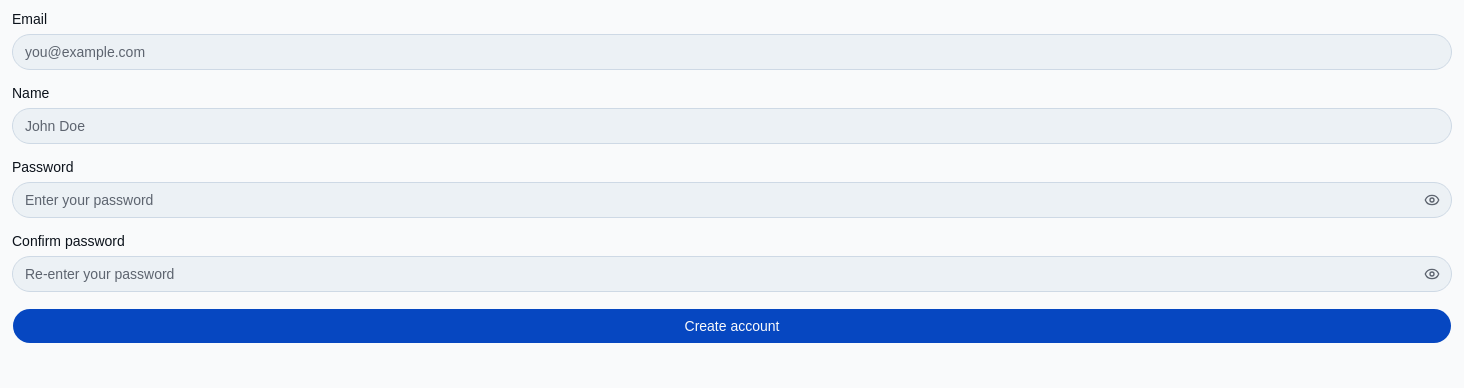
Scenario: RegisterForm › shows validation error when passwords do not match
The image size is (1464, 388).
Type "user@example.com" into the field labelled "Email" at (732, 52), box [12,34,1452,70]
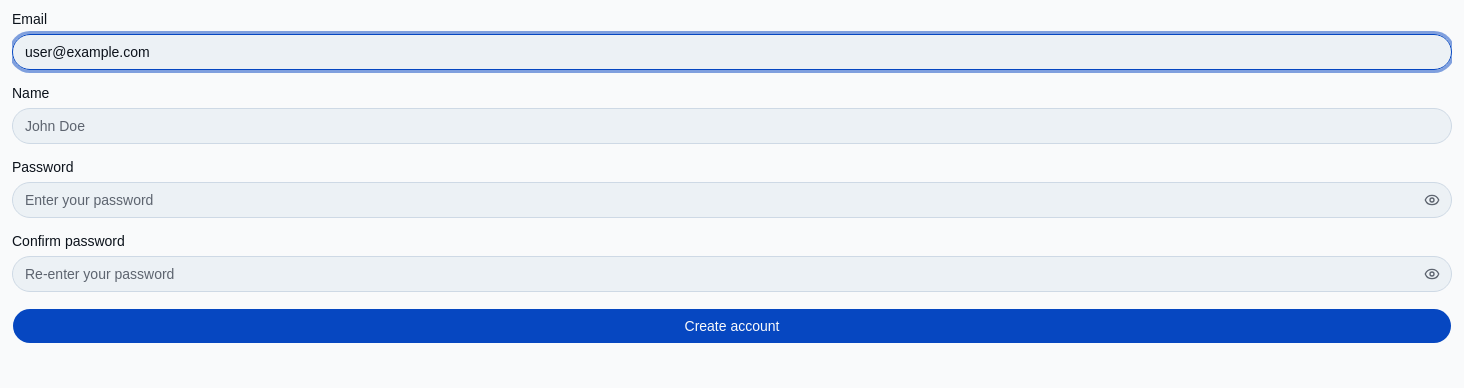
Type "Test User" into the field labelled "Name" at (732, 126), box [12,108,1452,144]
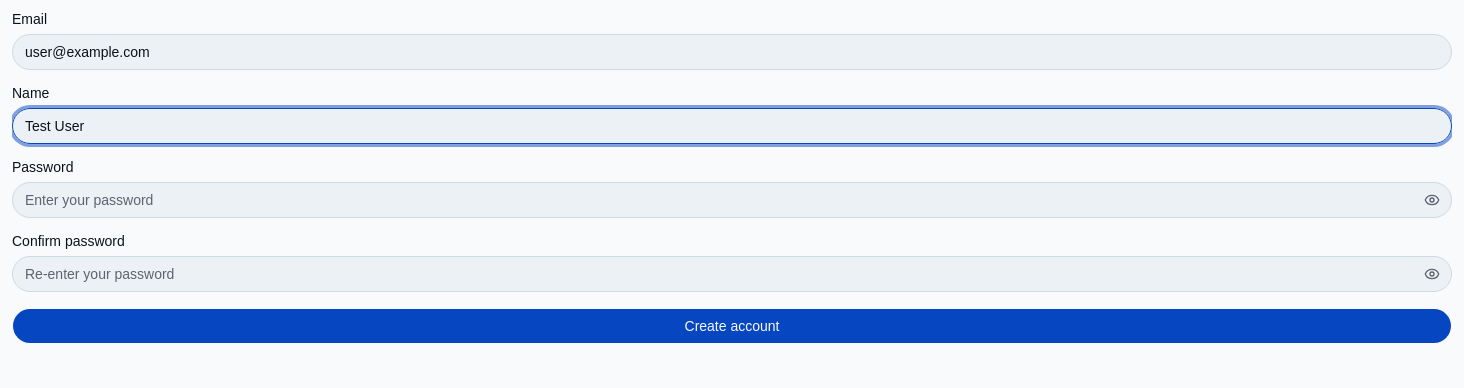
Type "Password1!" into the password field labelled "Password" at (732, 200), box [12,182,1452,218]
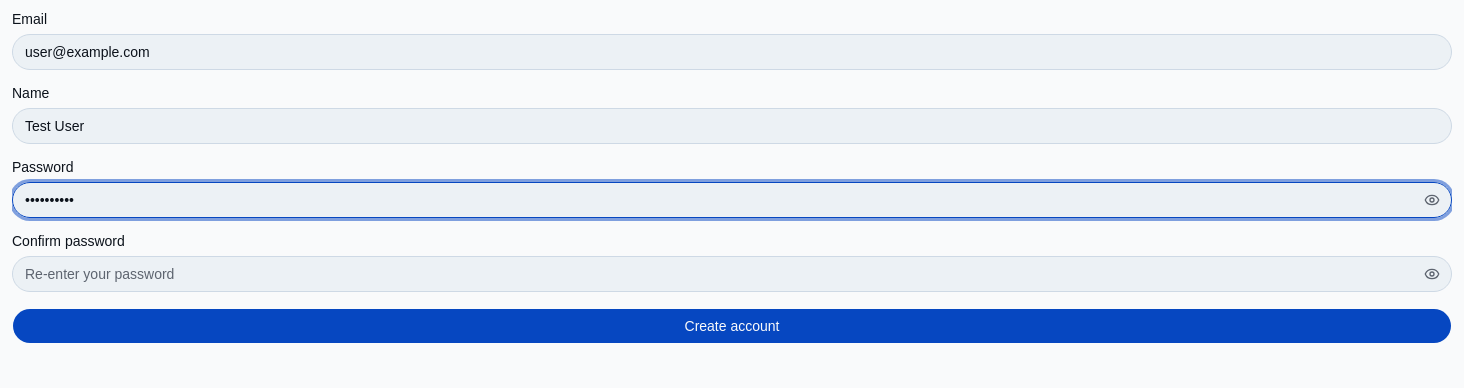
Type "OtherPass1!" into the password field labelled "Confirm password" at (732, 274), box [12,256,1452,292]
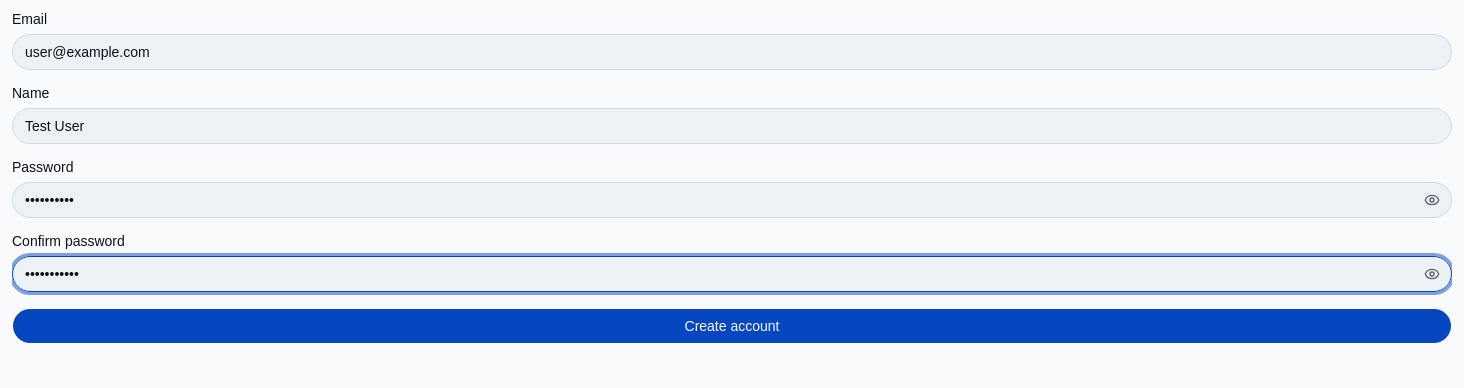
Click the button "Create account" at (732, 326), box [12,308,1452,344]
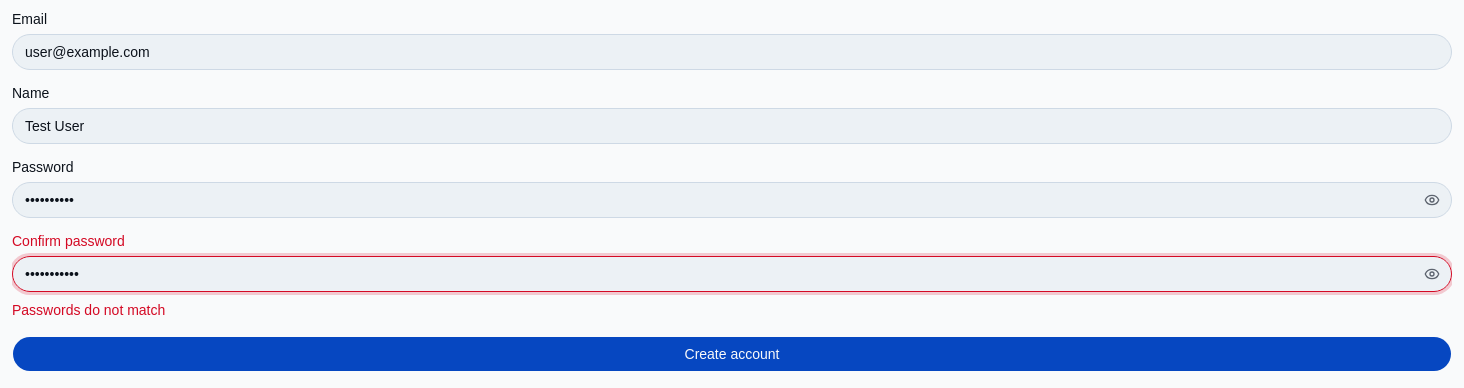
Now the text "Passwords do not match" is shown, box [12,302,165,318]
